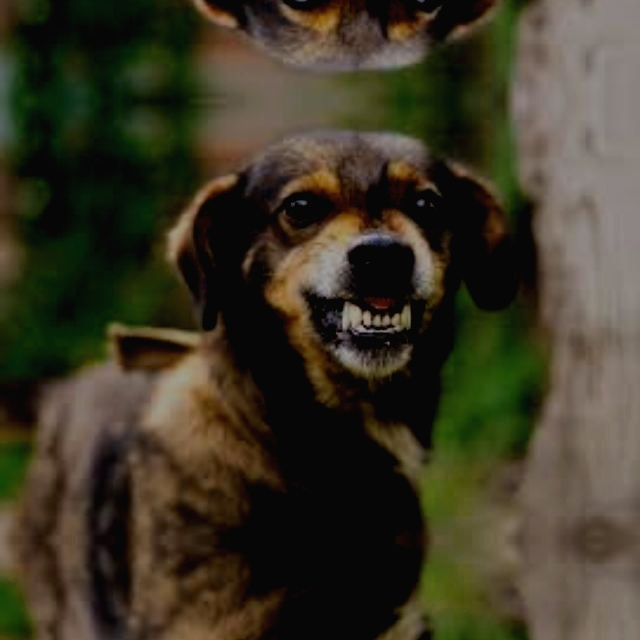dog: (145, 107, 531, 409), (145, 0, 531, 93)
